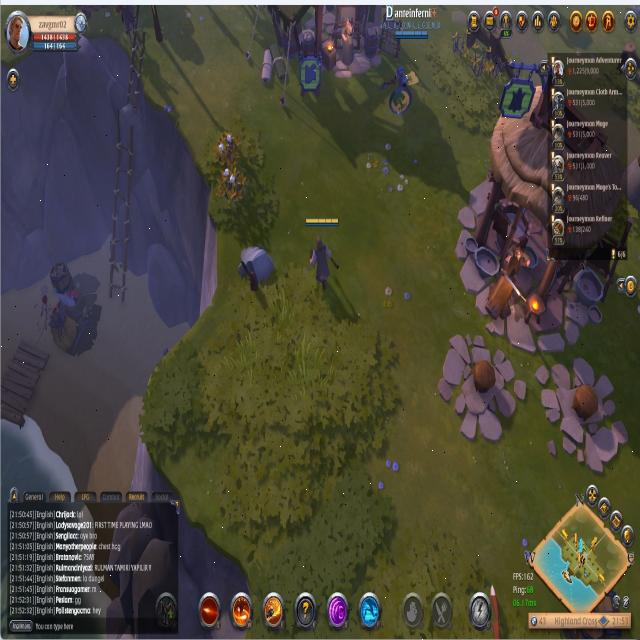stone: (236, 242, 276, 290)
